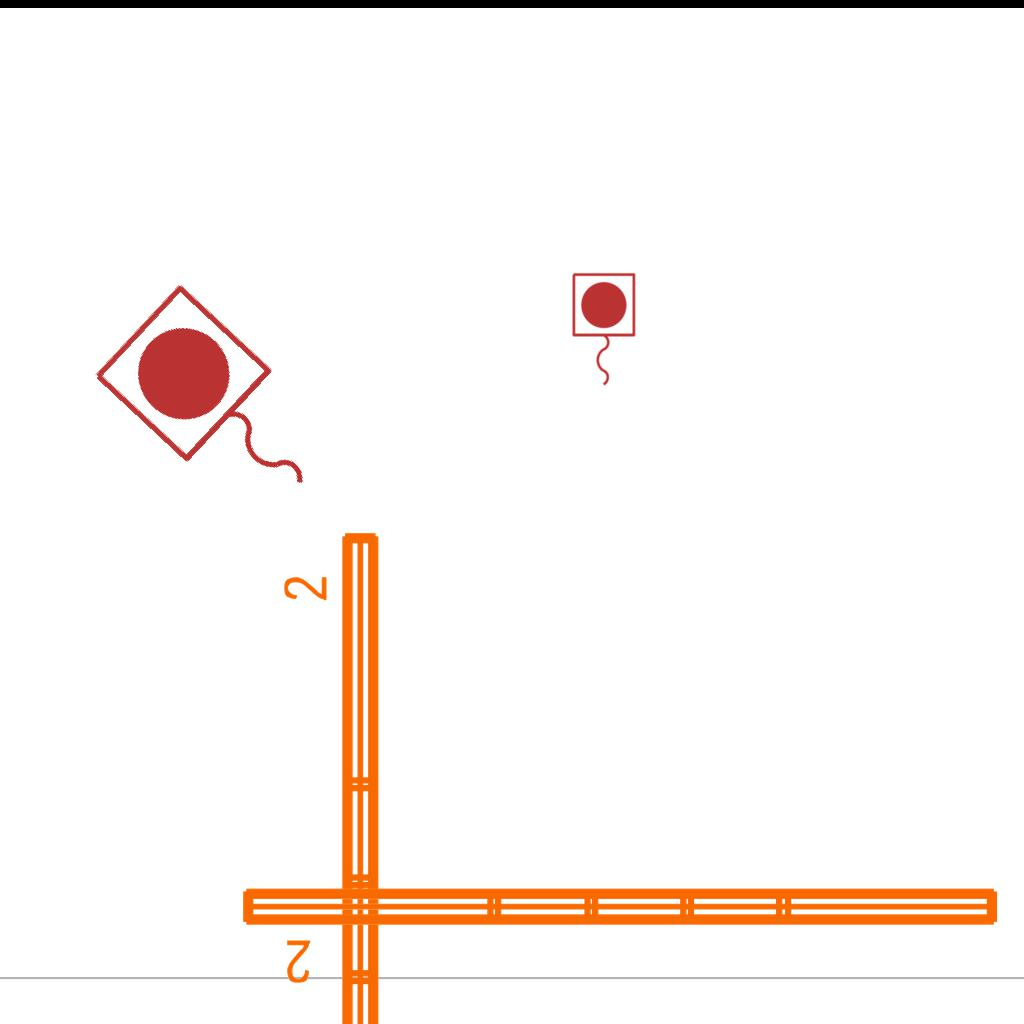Ambulanz_Pendelleuchte_LED: (234, 876, 1008, 988), (279, 524, 391, 1024)
Zugtaster: (80, 273, 358, 545), (567, 269, 639, 391)
